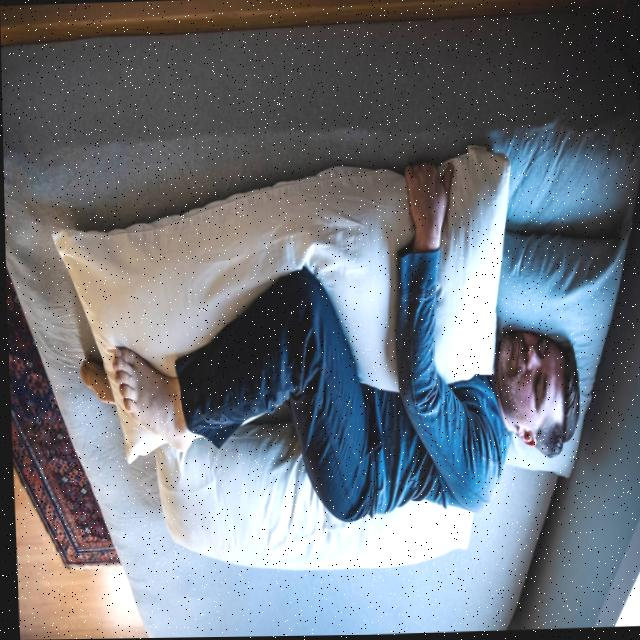sleeping-person: (59, 131, 603, 569)
